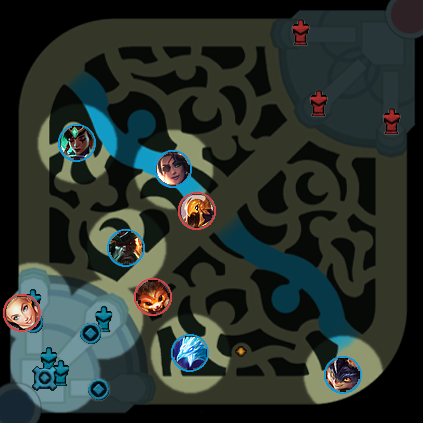Anivia: (171, 334, 209, 372)
Azir: (178, 192, 216, 230)
Gangplank: (107, 229, 145, 267)
Gnar: (134, 278, 172, 316)
Karma: (58, 124, 96, 162)
Lux: (3, 294, 41, 332)
Rumble: (324, 356, 362, 394)
Samira: (154, 150, 192, 188)
